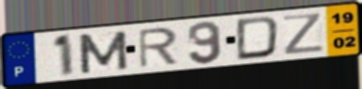1: (52, 33, 76, 78)
9: (186, 19, 224, 66)
D: (234, 15, 282, 62)
M: (76, 29, 131, 76)
R: (136, 25, 180, 70)
Z: (281, 11, 327, 57)
